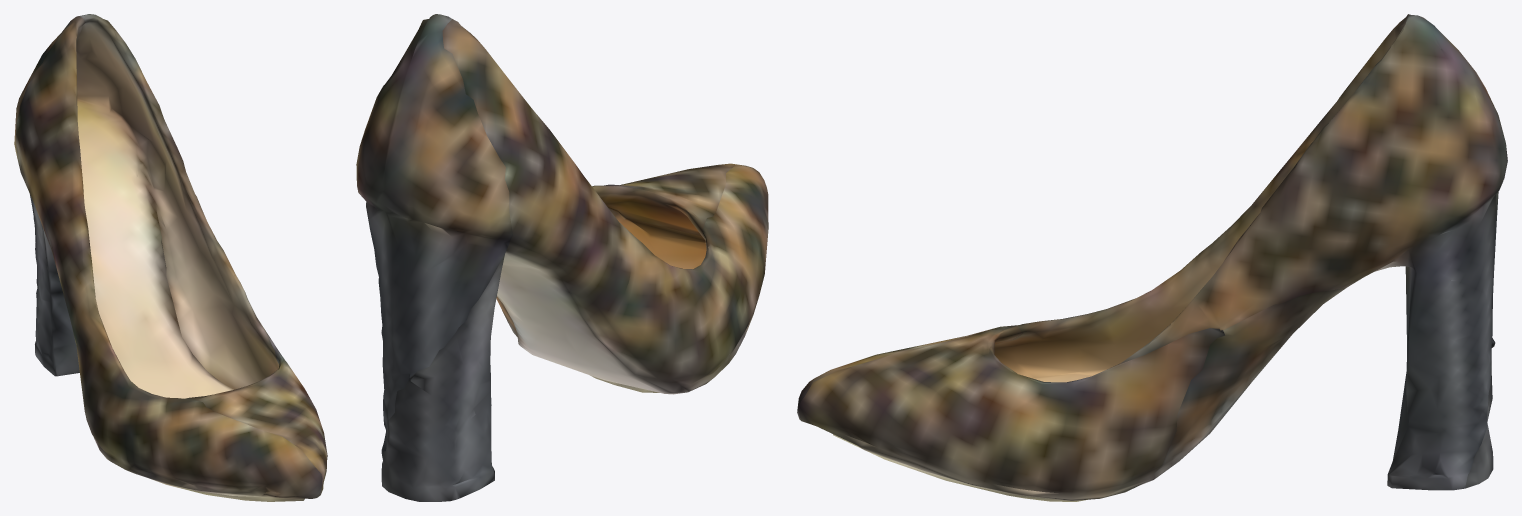
The model's file is Chelsea_BlkHeelPMP_DwxLtZNxLZZ-medium.glb.
The picture shows the model from 3 angles, left to right: view 1: azimuth 30°, elevation 25°; view 2: azimuth 150°, elevation 25°; view 3: azimuth 270°, elevation 25°; orthographic projection. The views are drawn at different scales.
Visible parts, largest first — view 1: Chelsea_BlkHeelPMP_DwxLtZNxLZZ; view 2: Chelsea_BlkHeelPMP_DwxLtZNxLZZ; view 3: Chelsea_BlkHeelPMP_DwxLtZNxLZZ.
Boxes of the visible parts, x1,y1,x2,y2 form: Chelsea_BlkHeelPMP_DwxLtZNxLZZ: (14,14,327,501); Chelsea_BlkHeelPMP_DwxLtZNxLZZ: (356,14,768,501); Chelsea_BlkHeelPMP_DwxLtZNxLZZ: (797,14,1507,501).
Size of the model in its own units: 0.0859 by 0.1716 by 0.2408.
1 material, 1 textured.
